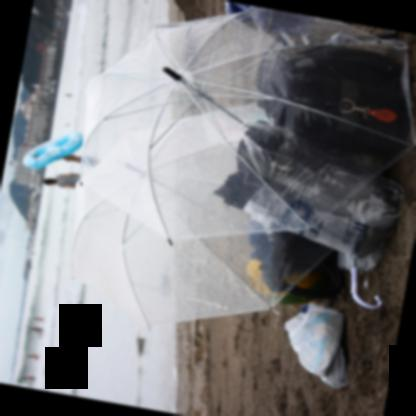backpack: (253, 31, 416, 149)
